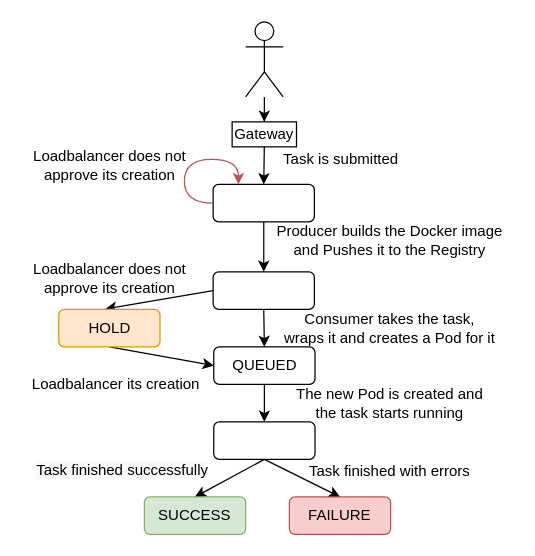
This 535x556 diagram has some shape labels left out. Here are the shapes that lost their labels. From the top down, the centre of each, then its label:
At point 263,202: "PENDING".
At point 263,290: "BUILT".
At point 263,440: "RUNNING".
